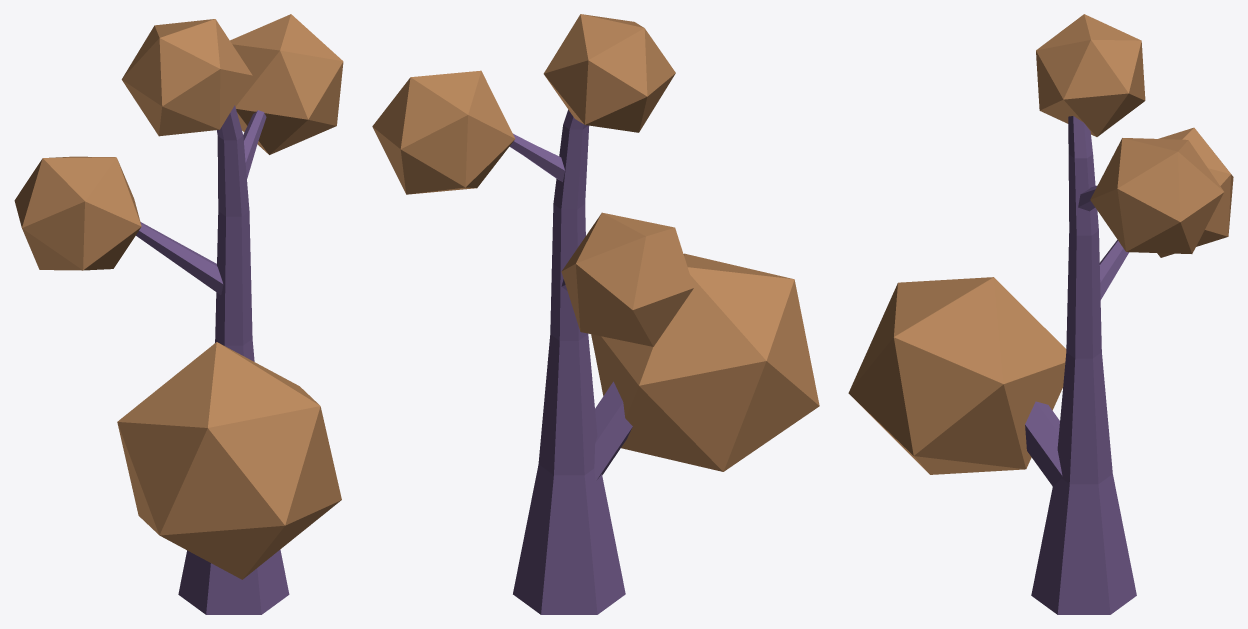
The picture shows the model from 3 angles, left to right: view 1: azimuth 30°, elevation 25°; view 2: azimuth 150°, elevation 25°; view 3: azimuth 270°, elevation 25°; orthographic projection. The views are drawn at different scales.
Visible parts, largest first — view 1: Cylinder.008, Cylinder.007, Cylinder.010, Cylinder.011, Cylinder.009, Cylinder.013, Cylinder.012; view 2: Cylinder.008, Cylinder.007, Cylinder.010, Cylinder.009, Cylinder.011, Cylinder.014, Cylinder.012; view 3: Cylinder.008, Cylinder.007, Cylinder.009, Cylinder.011, Cylinder.010, Cylinder.014, Cylinder.013.
Part boxes in pixels (x1=…): Cylinder.008: x1=117, y1=342, x2=341, y2=579; Cylinder.007: x1=178, y1=105, x2=289, y2=614; Cylinder.010: x1=14, y1=156, x2=141, y2=270; Cylinder.011: x1=121, y1=19, x2=252, y2=136; Cylinder.009: x1=230, y1=14, x2=343, y2=154; Cylinder.013: x1=136, y1=222, x2=223, y2=294; Cylinder.012: x1=243, y1=110, x2=266, y2=178; Cylinder.008: x1=591, y1=253, x2=819, y2=471; Cylinder.007: x1=513, y1=109, x2=625, y2=614; Cylinder.010: x1=561, y1=212, x2=693, y2=346; Cylinder.009: x1=372, y1=70, x2=515, y2=194; Cylinder.011: x1=543, y1=14, x2=675, y2=132; Cylinder.014: x1=594, y1=381, x2=632, y2=481; Cylinder.012: x1=509, y1=133, x2=564, y2=181; Cylinder.008: x1=848, y1=277, x2=1066, y2=474; Cylinder.007: x1=1031, y1=116, x2=1136, y2=614; Cylinder.009: x1=1090, y1=138, x2=1224, y2=253; Cylinder.011: x1=1036, y1=14, x2=1145, y2=136; Cylinder.010: x1=1157, y1=127, x2=1233, y2=257; Cylinder.014: x1=1025, y1=401, x2=1062, y2=486; Cylinder.013: x1=1099, y1=240, x2=1128, y2=299.
Bounding box in the file's own units: 1.91 × 3.38 × 2.15.
